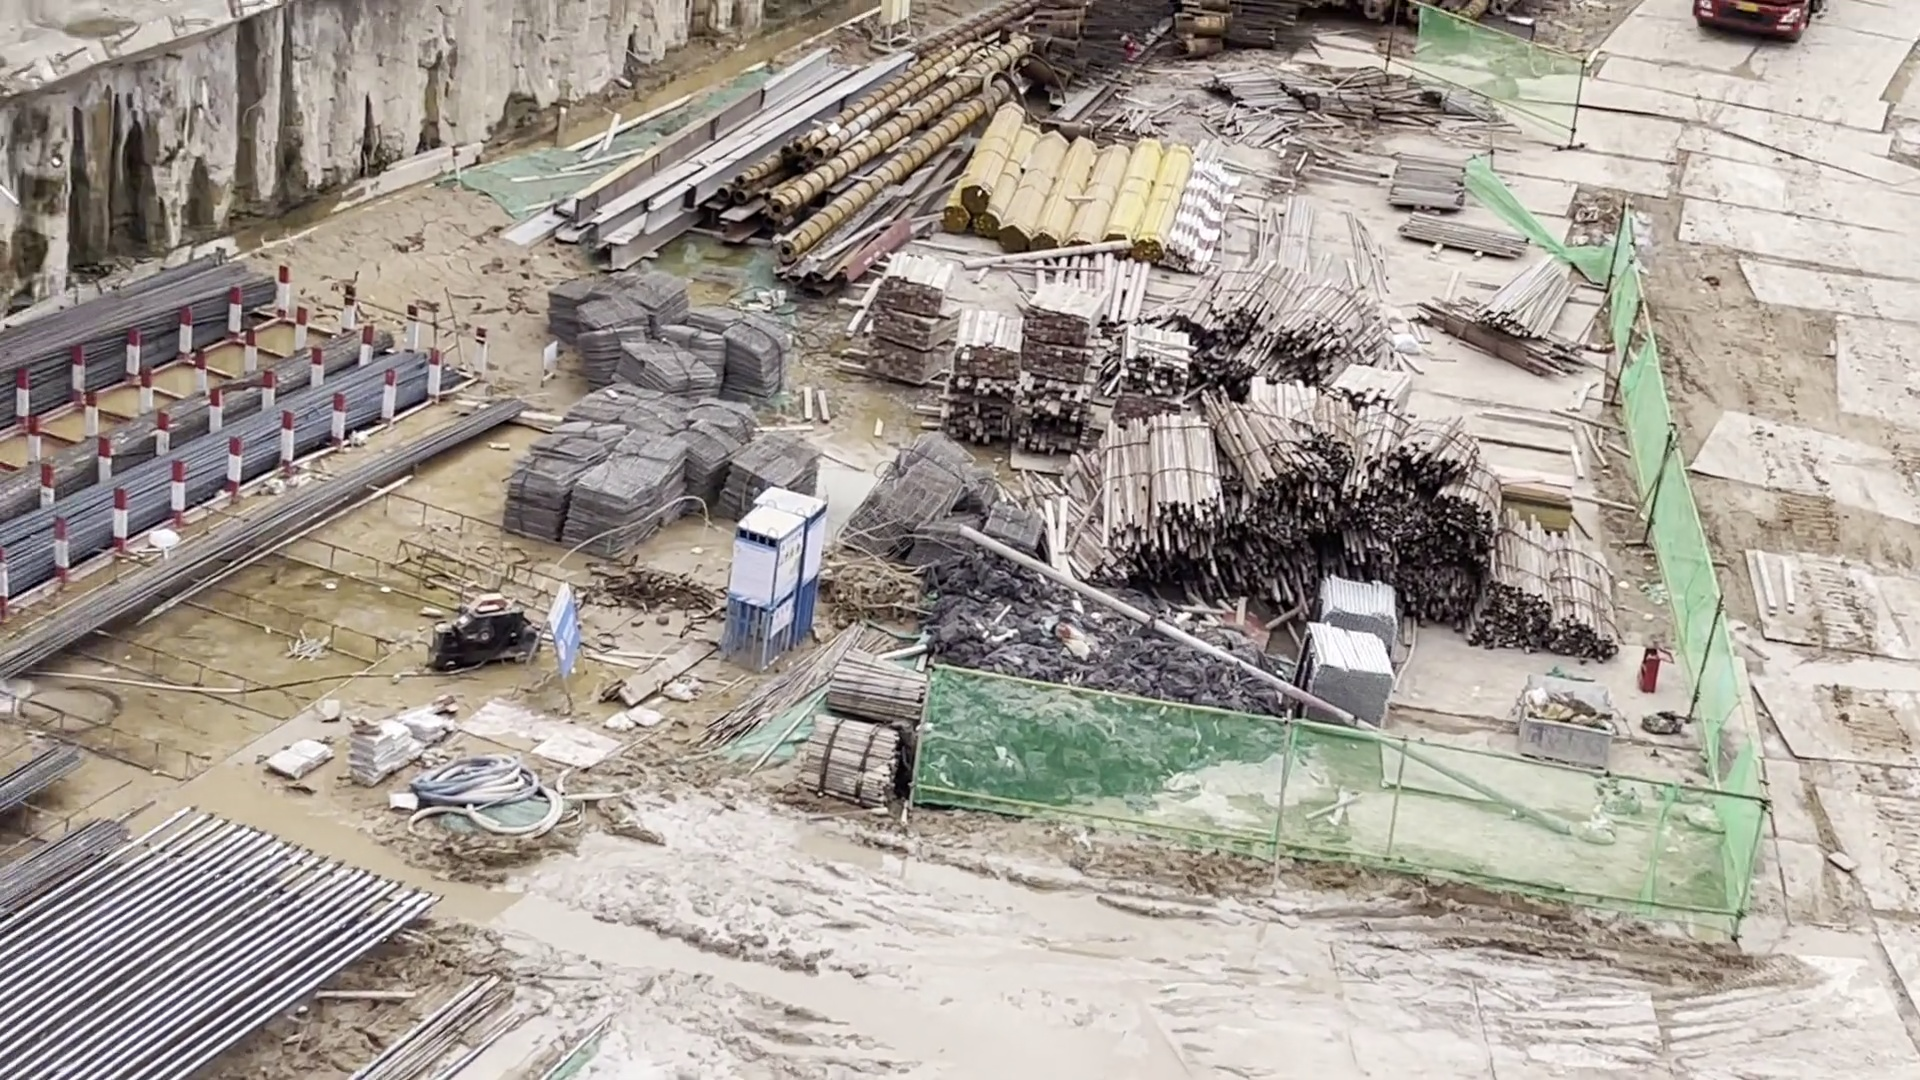hopper: (1522, 675, 1619, 766)
rebar: (4, 256, 527, 616)
wood: (865, 251, 1112, 462), (1114, 328, 1191, 397)
